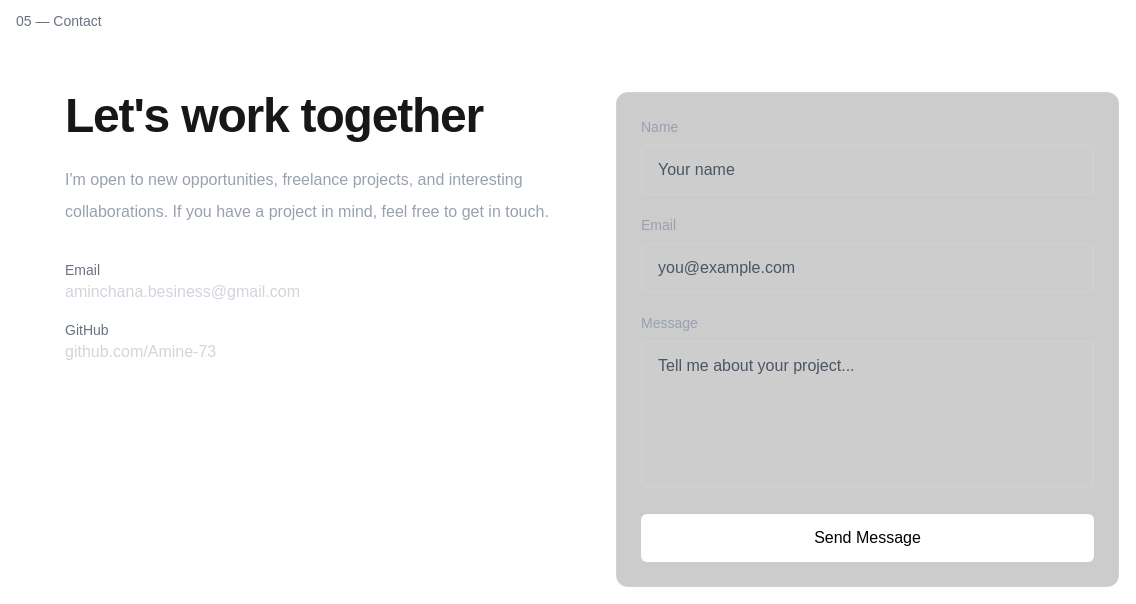
Test: Contact form › disables the submit button while sending
This screenshot has width=1136, height=604.
Type "Test User" into the field labelled "Name" at (868, 170), box [641,145,1094,195]
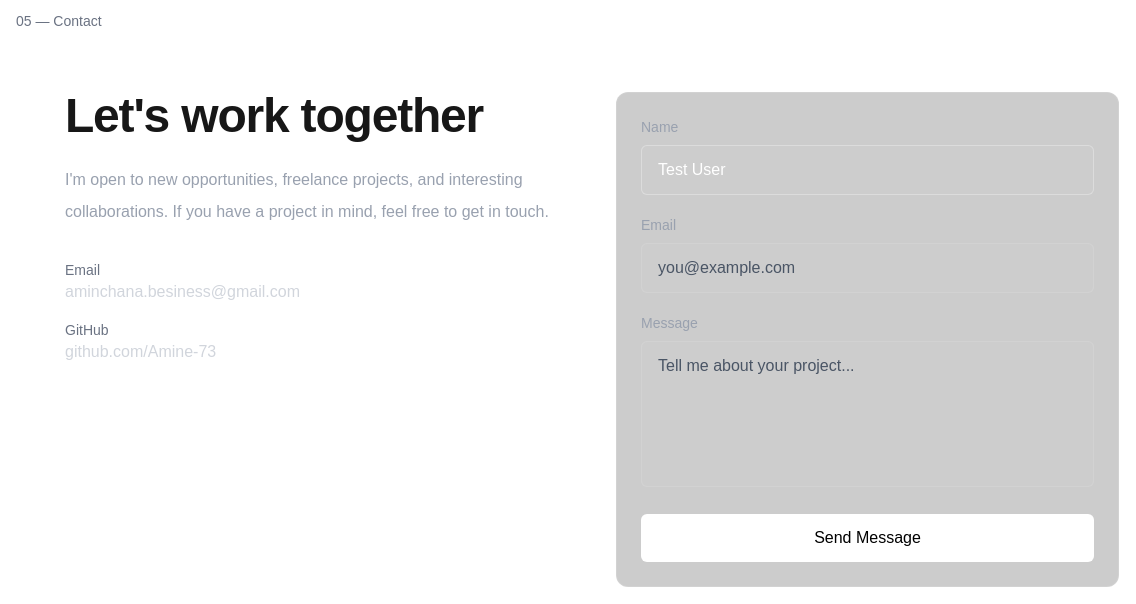
Type "test@example.com" into the field labelled "Email" at (868, 268), box [641,243,1094,293]
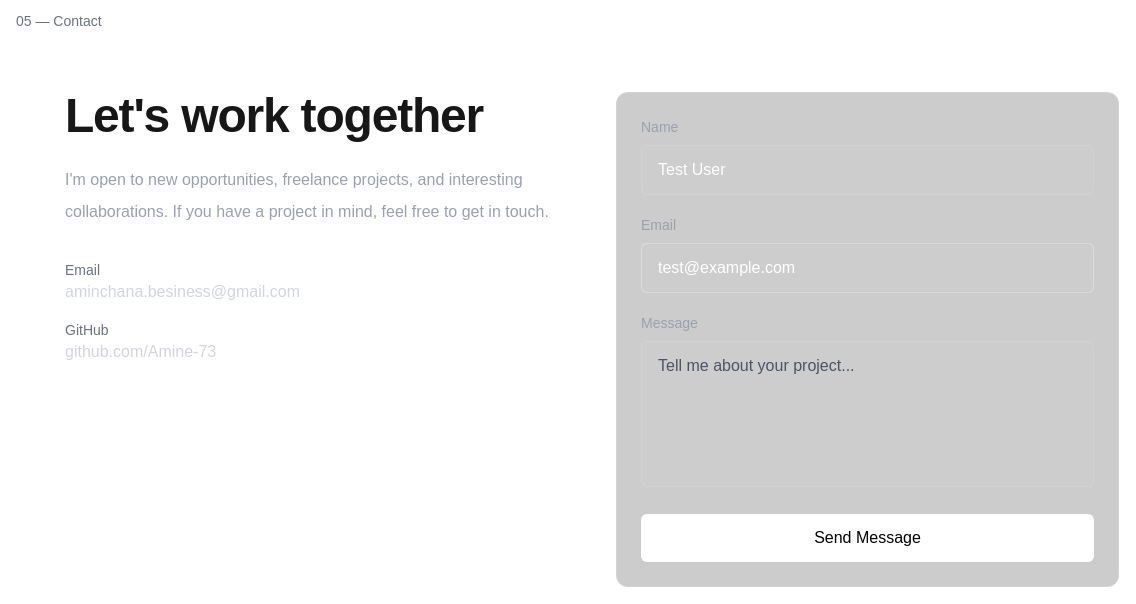
Type "Hello there" into the text box labelled "Message" at (868, 414), box [641,341,1094,487]
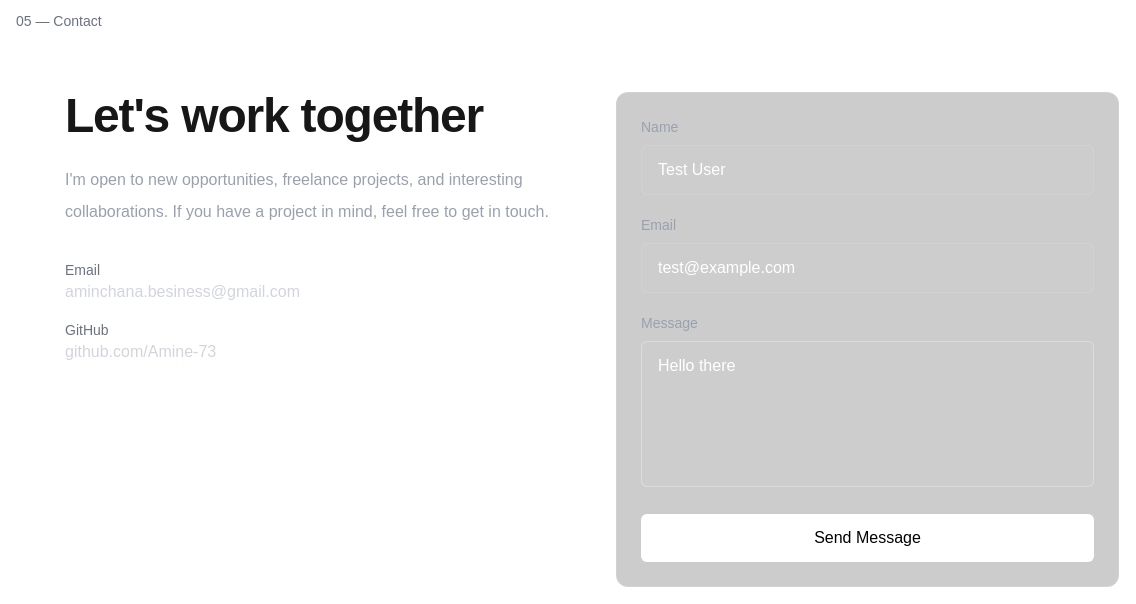
Click the button "Send Message" at (868, 538), box [641,514,1094,562]
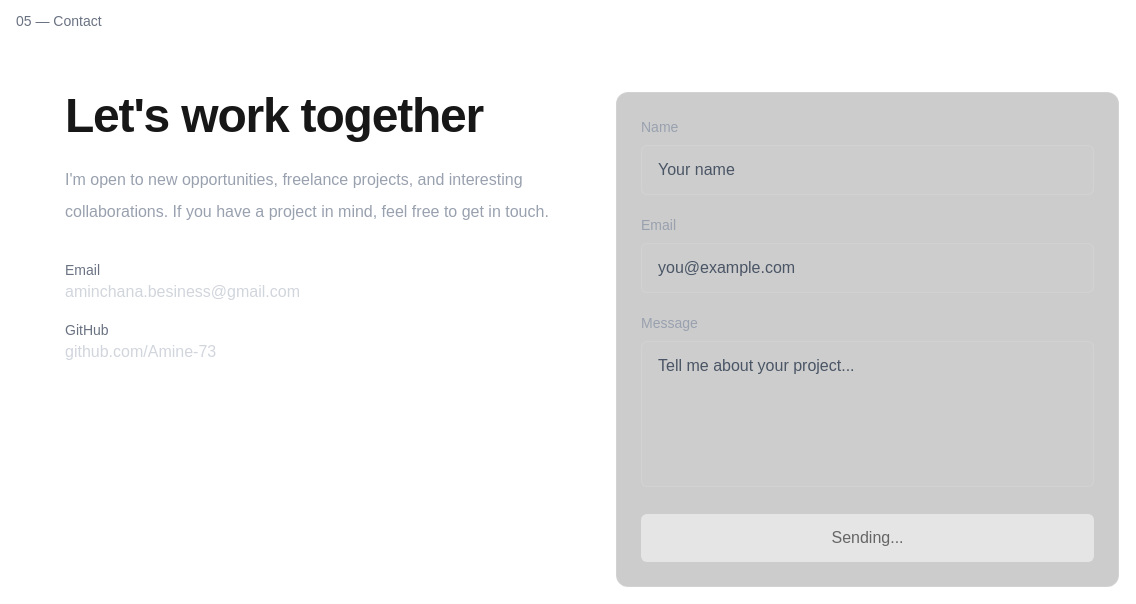
Expected: the button "Sending..." is disabled, [641,514,1094,562]
